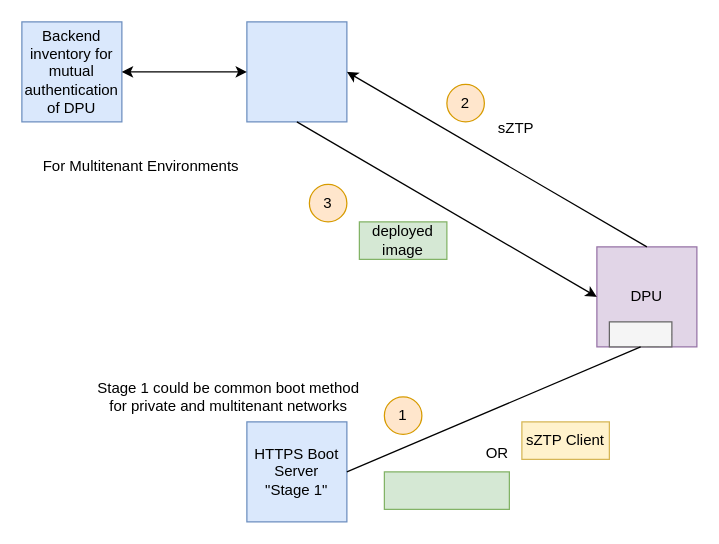
The diagram is 719 pixels wide and 544 high, and some of its shapes have lost their labels. Each missing label, with the centre of its shape:
image (private ntwk): pixel 446 490
sZTP server "Stage 2": pixel 296 71
UEFI: pixel 640 334
